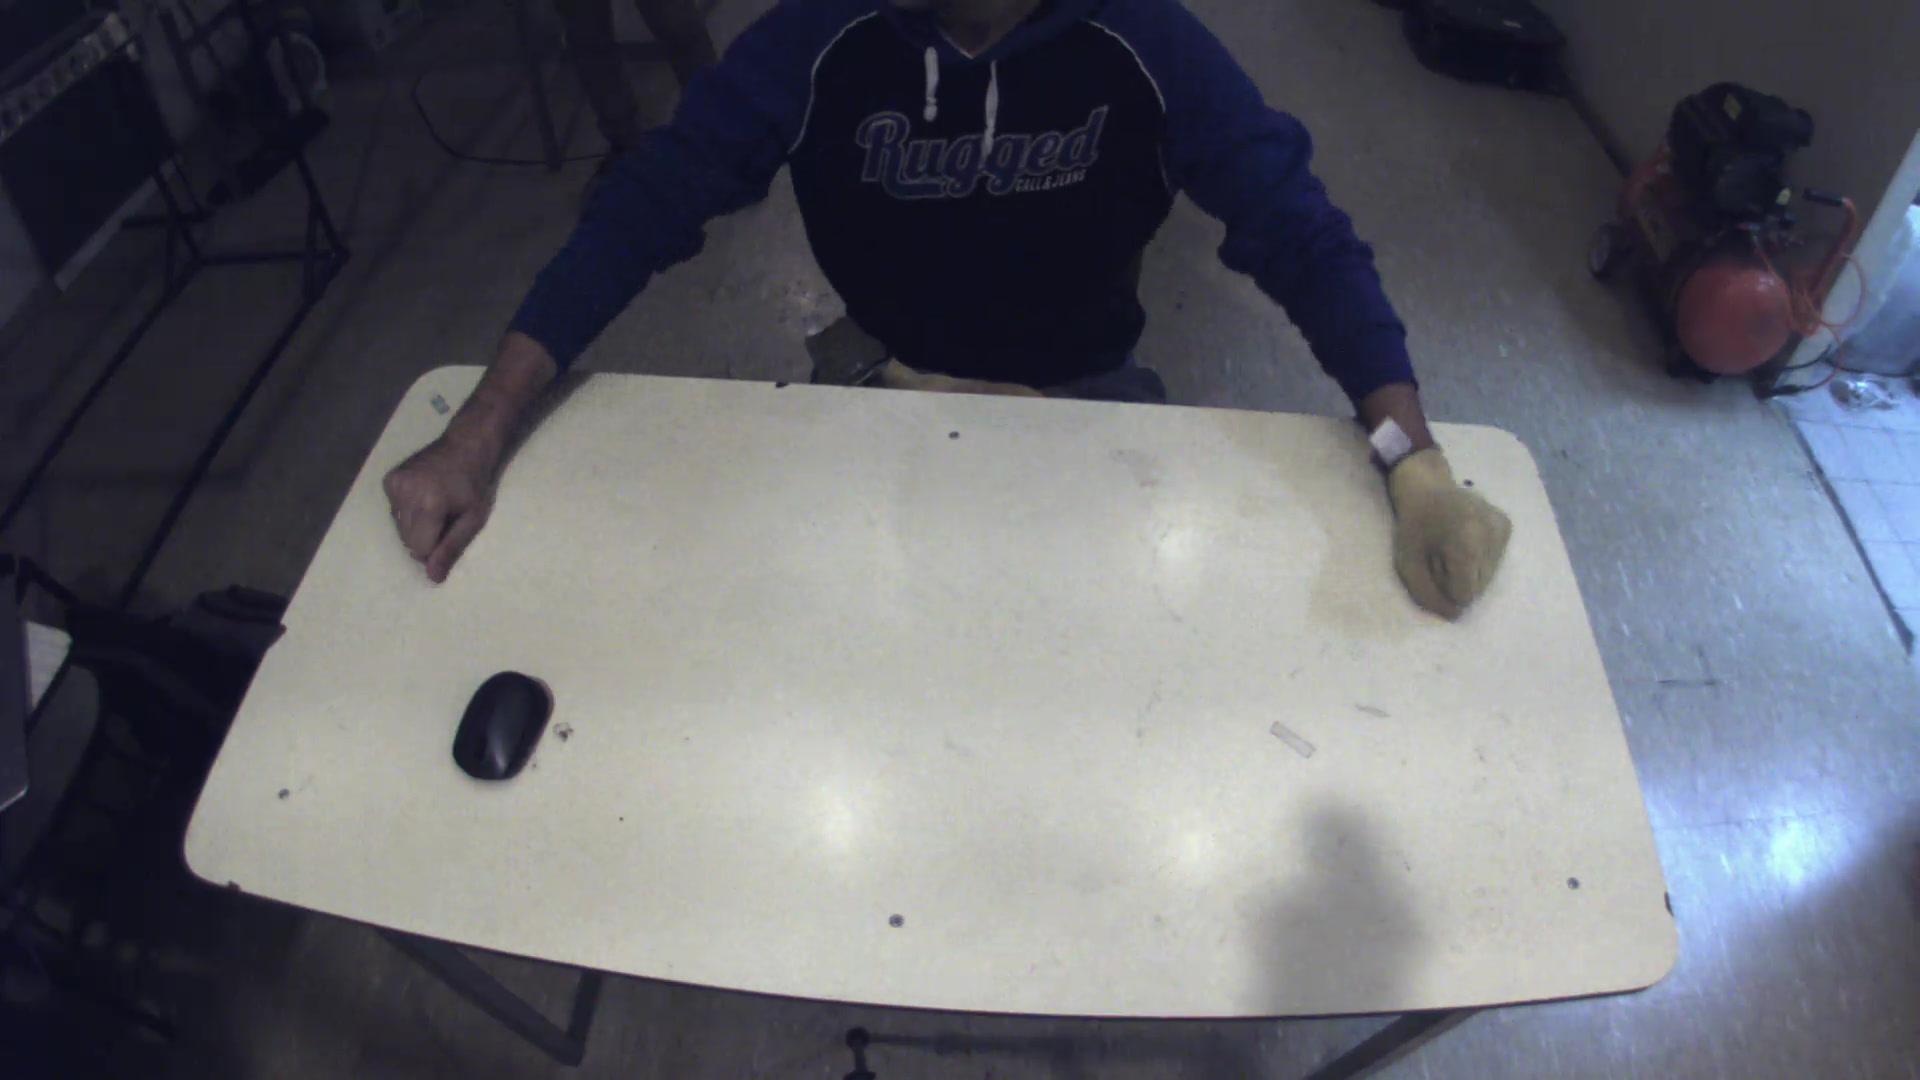hand: (367, 378, 534, 585), (1385, 444, 1520, 621)
